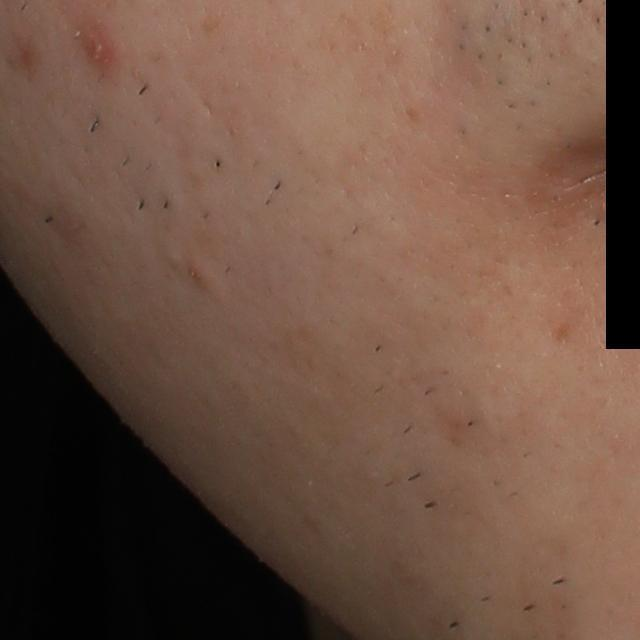papule: (182, 256, 215, 292)
